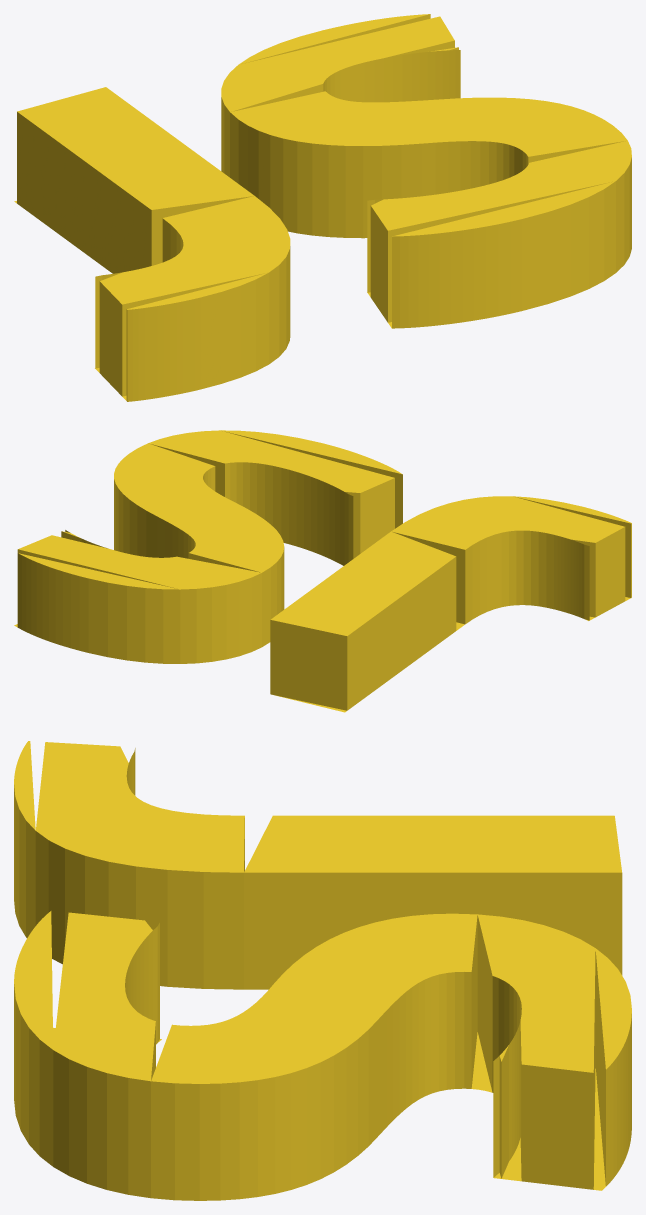
File: jsok.glb
3 renders of one model, top to bottom at view 1: azimuth 30°, elevation 25°; view 2: azimuth 150°, elevation 25°; view 3: azimuth 270°, elevation 25°, orthographic. The views are drawn at different scales.
Visible parts, largest first — view 1: Curve.001, Curve; view 2: Curve.001, Curve; view 3: Curve.001, Curve.
Part boxes in pixels (box(x1,y1,x2,y2)): Curve.001: box(221, 14, 631, 328); Curve: box(14, 87, 290, 401); Curve.001: box(14, 430, 402, 663); Curve: box(270, 496, 631, 712); Curve.001: box(14, 911, 631, 1200); Curve: box(14, 741, 622, 989).
Size of the model in its own units: 0.1429 by 0.0227 by 0.1088.
